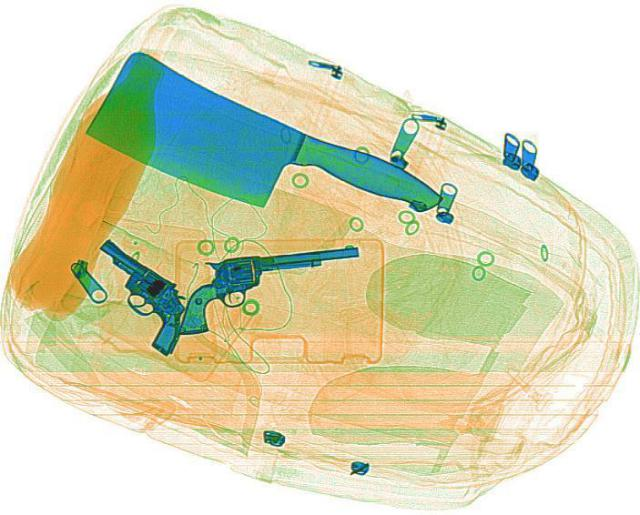Gun: (54, 236, 218, 357), (164, 240, 370, 333)
Knife: (69, 48, 452, 267)
